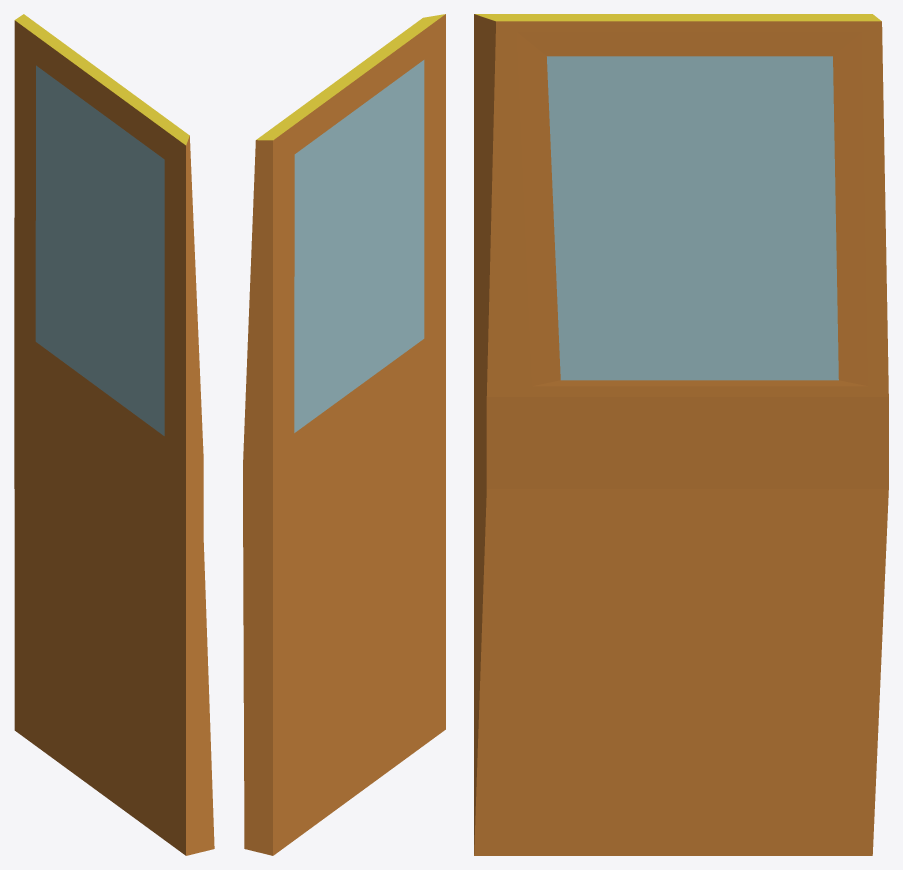
File: bus_left_window_three_.fbx
3 renders of one model, left to right at view 1: azimuth 30°, elevation 25°; view 2: azimuth 150°, elevation 25°; view 3: azimuth 270°, elevation 25°, orthographic. The views are drawn at different scales.
Visible parts, largest first — view 1: Cube.056; view 2: Cube.056; view 3: Cube.056.
Boxes of the visible parts, x1,y1,x2,y2 form: Cube.056: (14,14,214,855); Cube.056: (243,14,445,855); Cube.056: (474,14,888,855).
Size of the model in its own units: 6.54 by 156 by 70.98.
